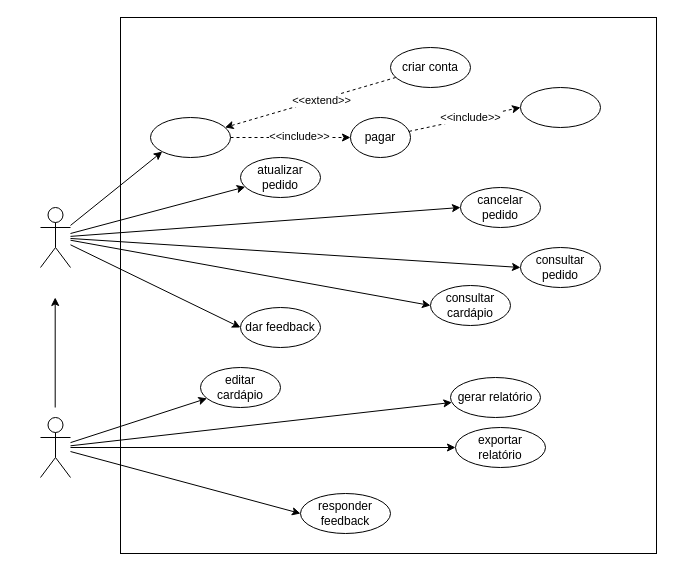
The diagram is 674 pixels wide and 571 high, and some of its shapes have lost their labels. The centre of each missing label's shape, as x and y in pixels:
"emitir nota" goes at (560,107).
"fazer pedido" goes at (190,137).
"gerente" goes at (55,447).
"usuário/cliente" goes at (55,237).
